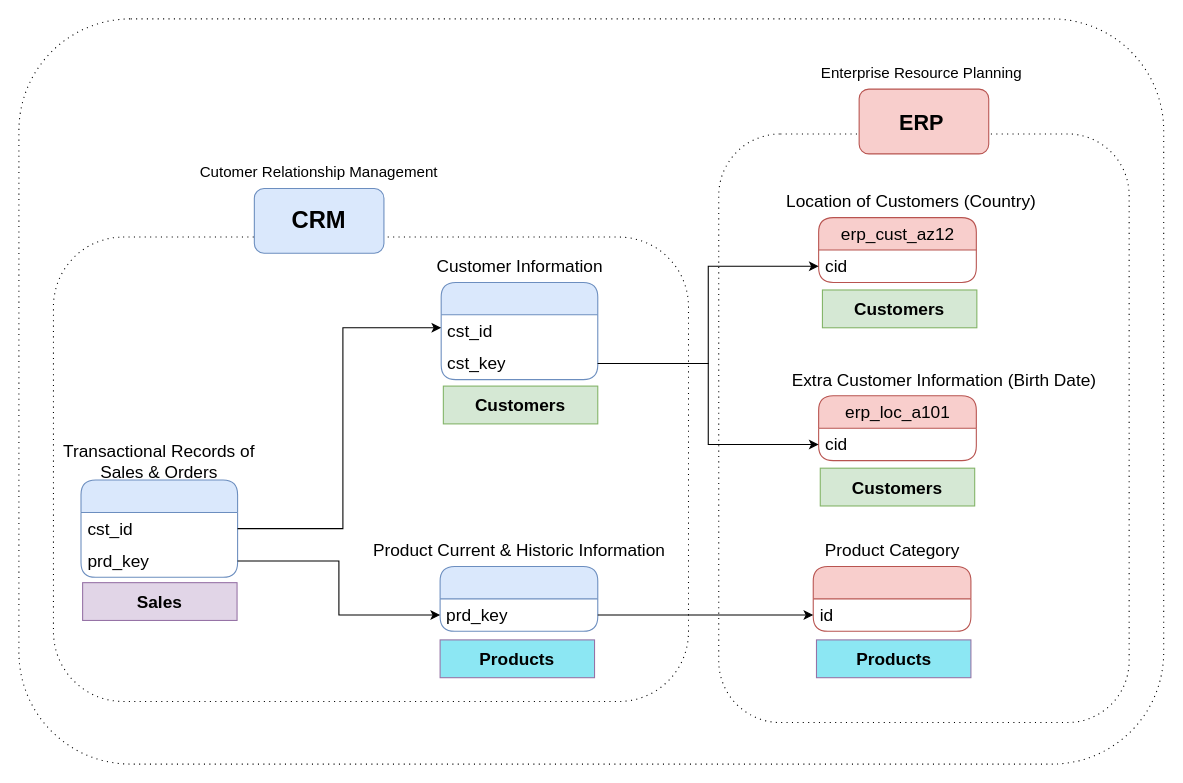
The diagram is 1183 pixels wide and 783 high, and some of its shapes have lost their labels. The box of each missing label's shape, as (x1, y1, x2, y2) in pixels:
crm_cust_info: (440, 281, 598, 380)
crm_prd_info: (439, 565, 598, 631)
crm_sales_details: (80, 479, 238, 577)
erp_px_cat_g1v2: (812, 565, 971, 631)
